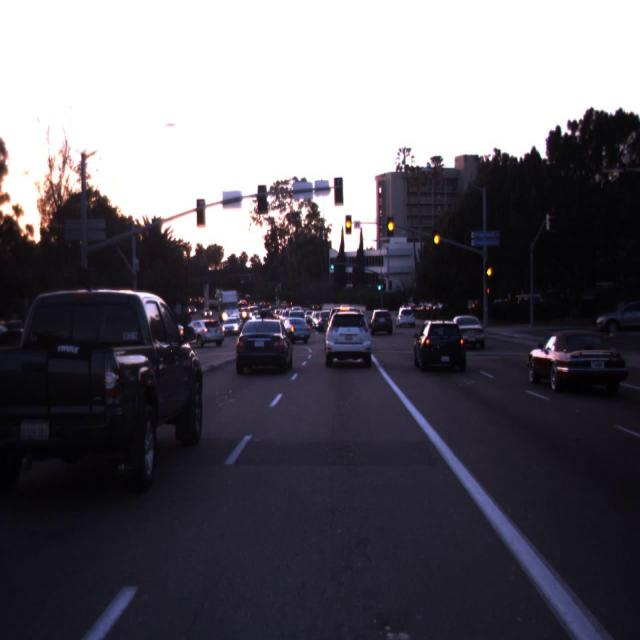arka_lamba: (196, 198, 206, 228), (334, 177, 343, 206), (258, 186, 266, 213)
sari: (432, 229, 440, 251), (486, 262, 493, 284), (387, 217, 394, 237), (346, 215, 352, 235)
